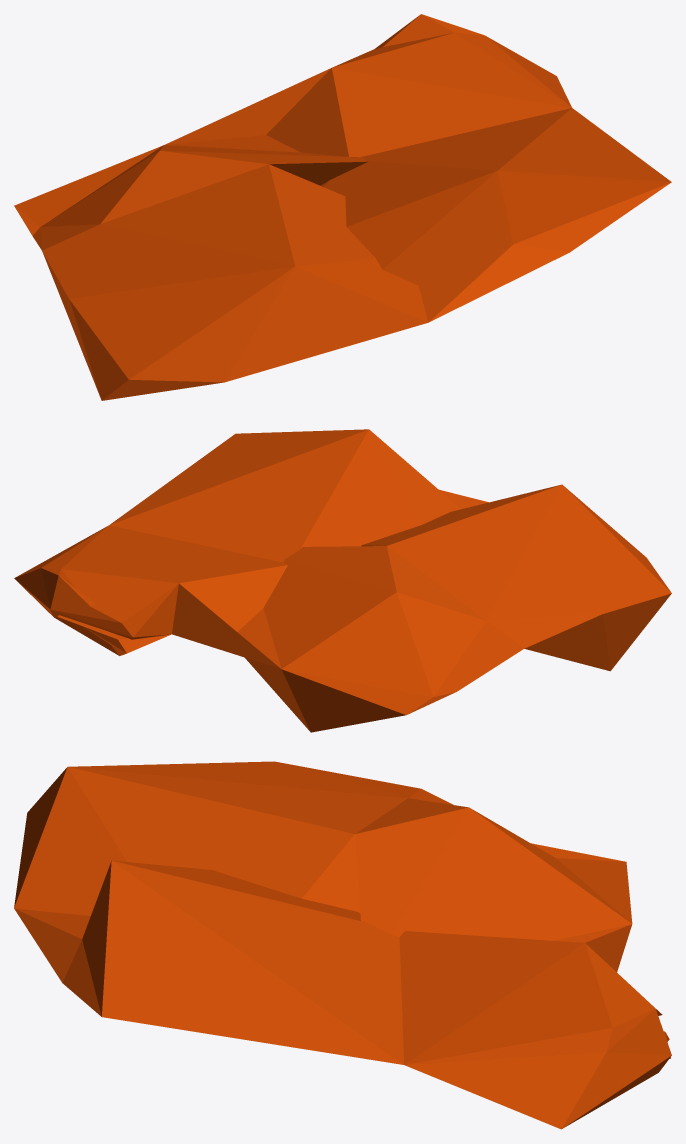
File: BoulderOrange1.fbx
The picture shows the model from 3 angles, top to bottom: view 1: azimuth 30°, elevation 25°; view 2: azimuth 150°, elevation 25°; view 3: azimuth 270°, elevation 25°; orthographic projection. The views are drawn at different scales.
Visible parts, largest first — view 1: Cube; view 2: Cube; view 3: Cube.
Boxes of the visible parts, x1,y1,x2,y2 form: Cube: (14, 14, 671, 400); Cube: (14, 429, 671, 732); Cube: (14, 761, 671, 1129).
Bounding box in the file's own units: 2.2 × 0.6519 × 1.71.
